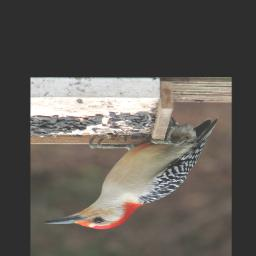Woodpecker: (43, 116, 220, 230)
